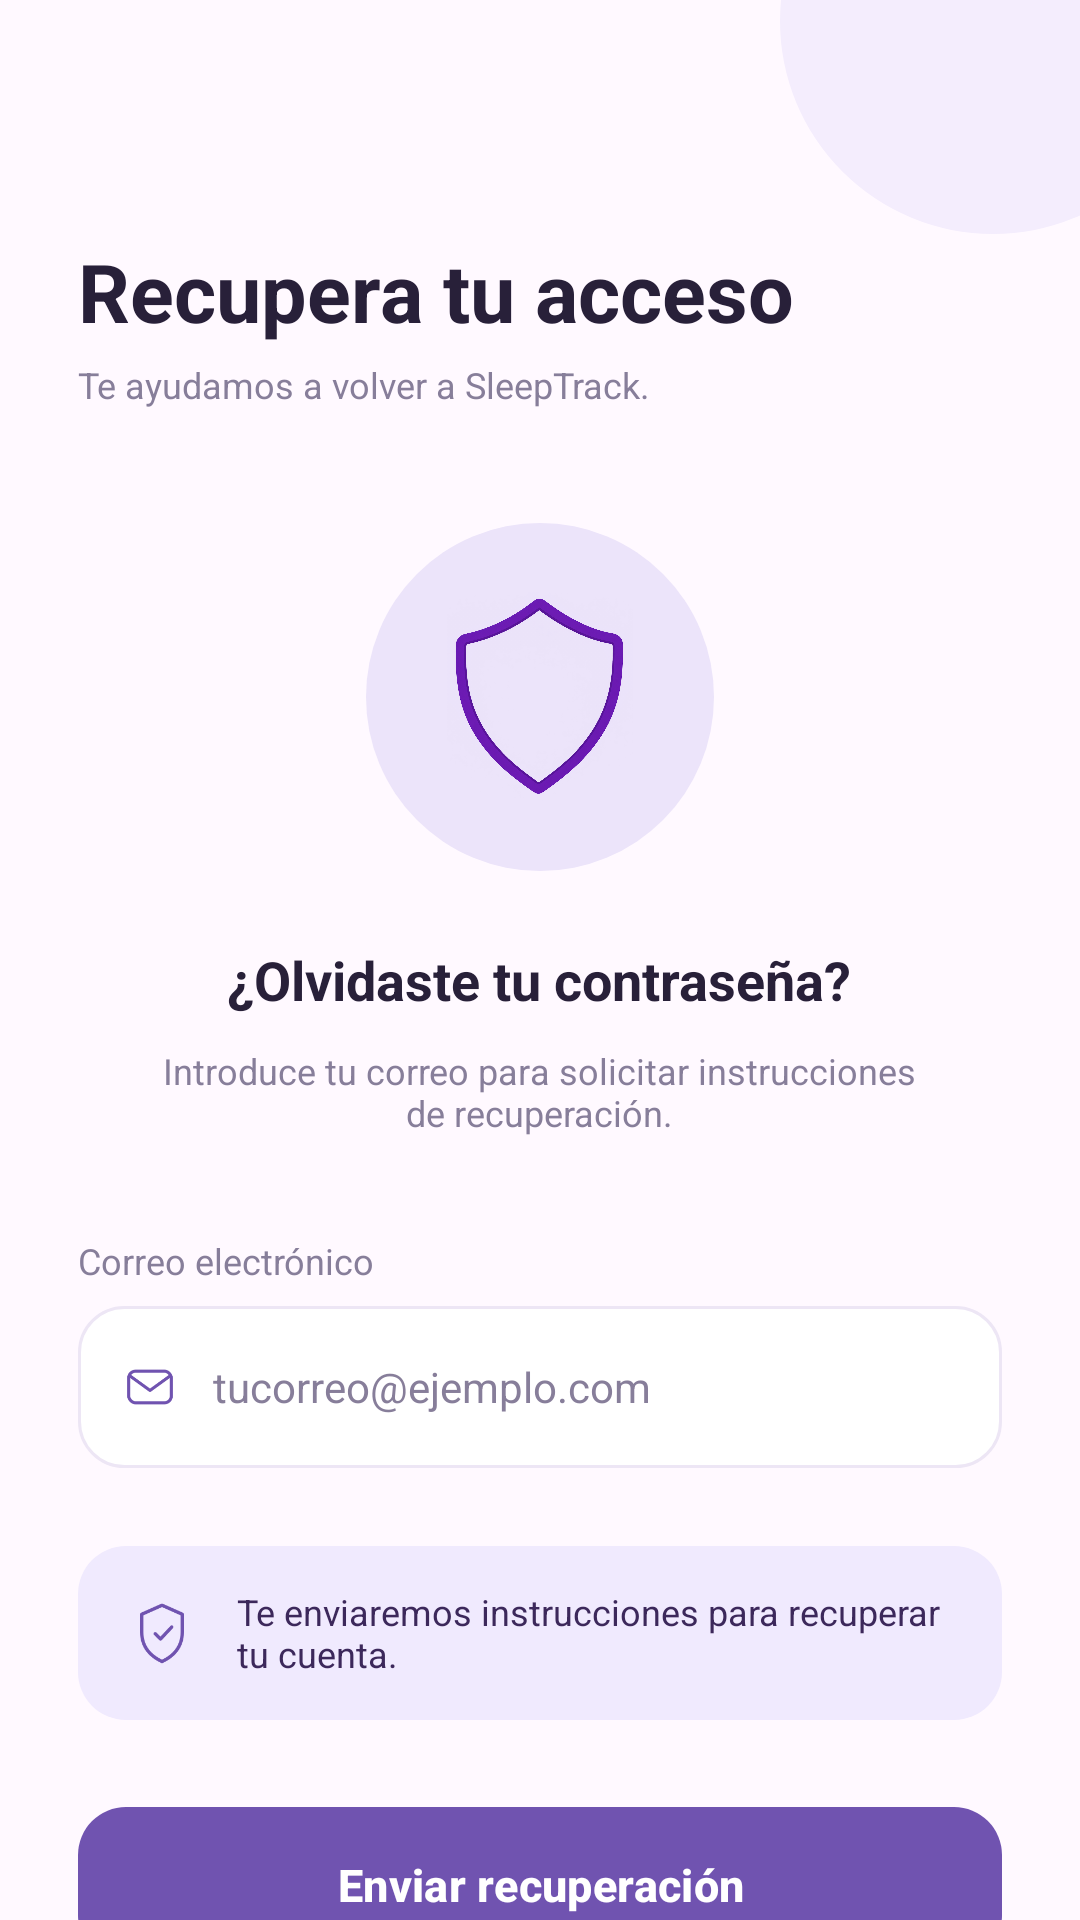

Point at icon controls on the screen. Image size 1080 × 1920, points as [x,y].
Icono de correo: [150,1387]
Seguridad: [539,696]
